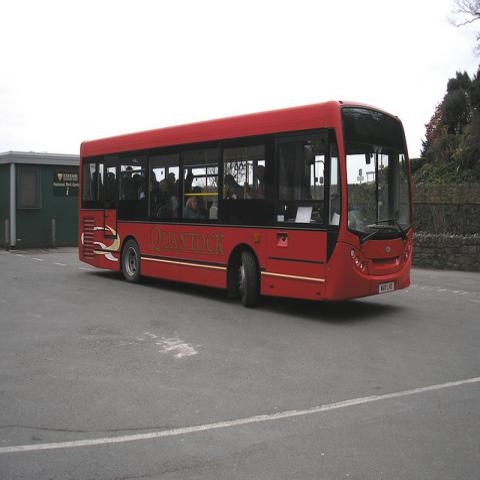bus: (80, 98, 416, 310)
